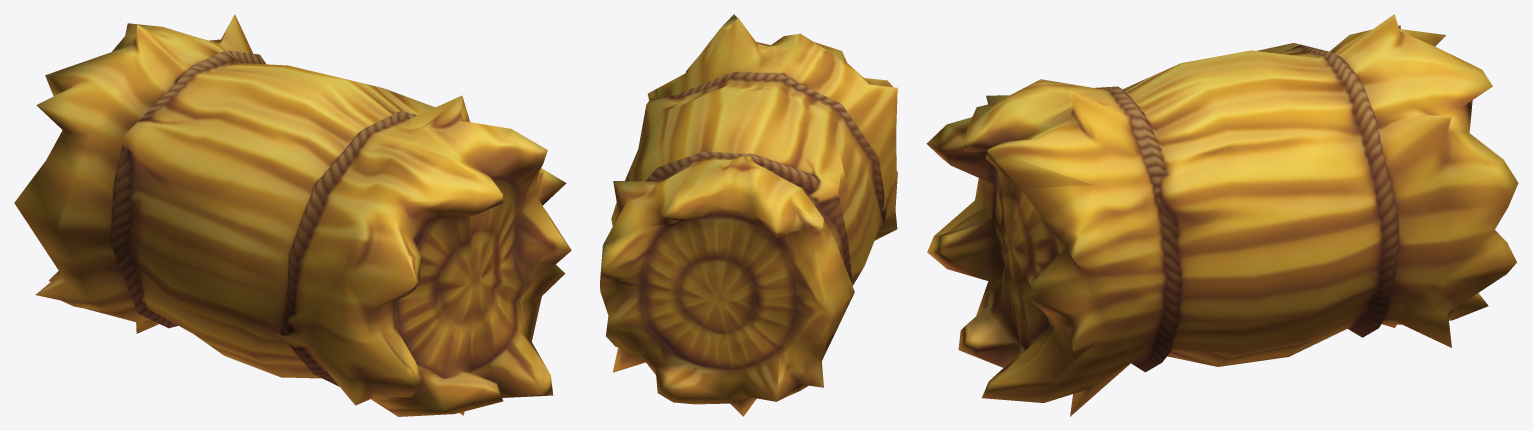
The model's file is tawara2.fbx.
3 renders of one model, left to right at view 1: azimuth 30°, elevation 25°; view 2: azimuth 150°, elevation 25°; view 3: azimuth 270°, elevation 25°, orthographic. The views are drawn at different scales.
Parts seen in each view (by area): view 1: HayRoll_Straw03; view 2: HayRoll_Straw03; view 3: HayRoll_Straw03.
Boxes of the visible parts, left/top/right/bottom form: HayRoll_Straw03: left=14, top=14, right=571, bottom=416; HayRoll_Straw03: left=600, top=14, right=897, bottom=416; HayRoll_Straw03: left=926, top=14, right=1518, bottom=416.
Bounding box in the file's own units: 42.55 × 33.76 × 55.56.
1 material, 1 textured.
